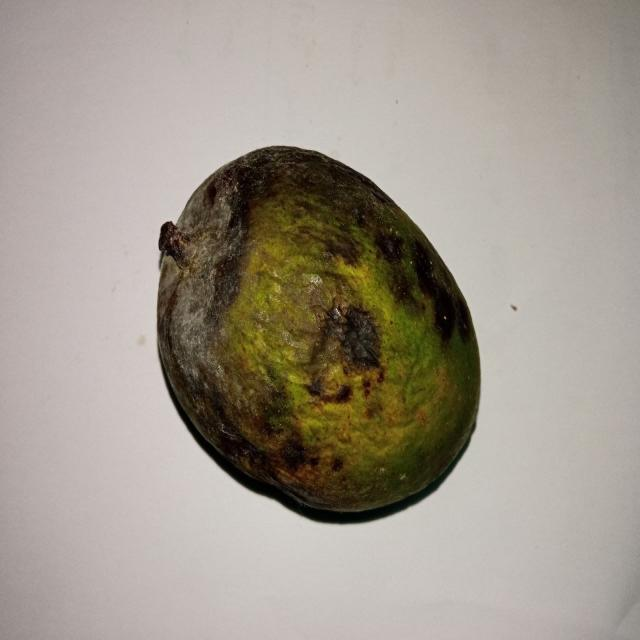rotten_mango: (154, 146, 478, 510)
